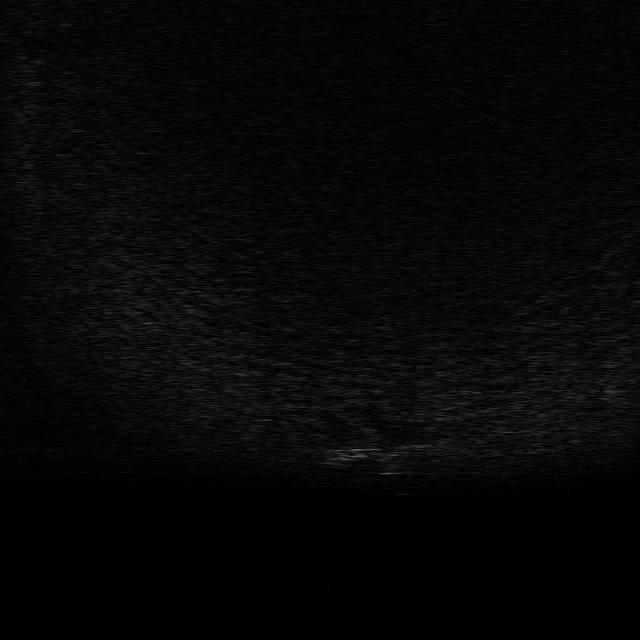plane: (316, 424, 438, 476)
